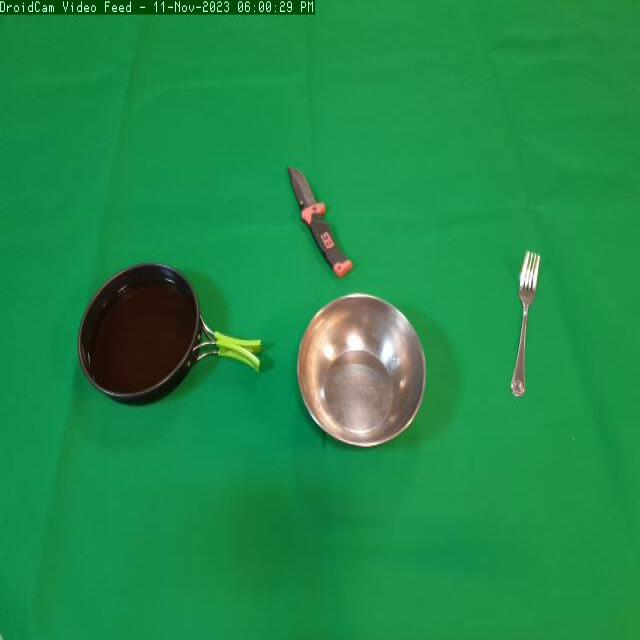bowl: (291, 288, 431, 455)
fork: (498, 242, 551, 410)
fullpan: (72, 258, 278, 422)
knife: (284, 160, 360, 288)
